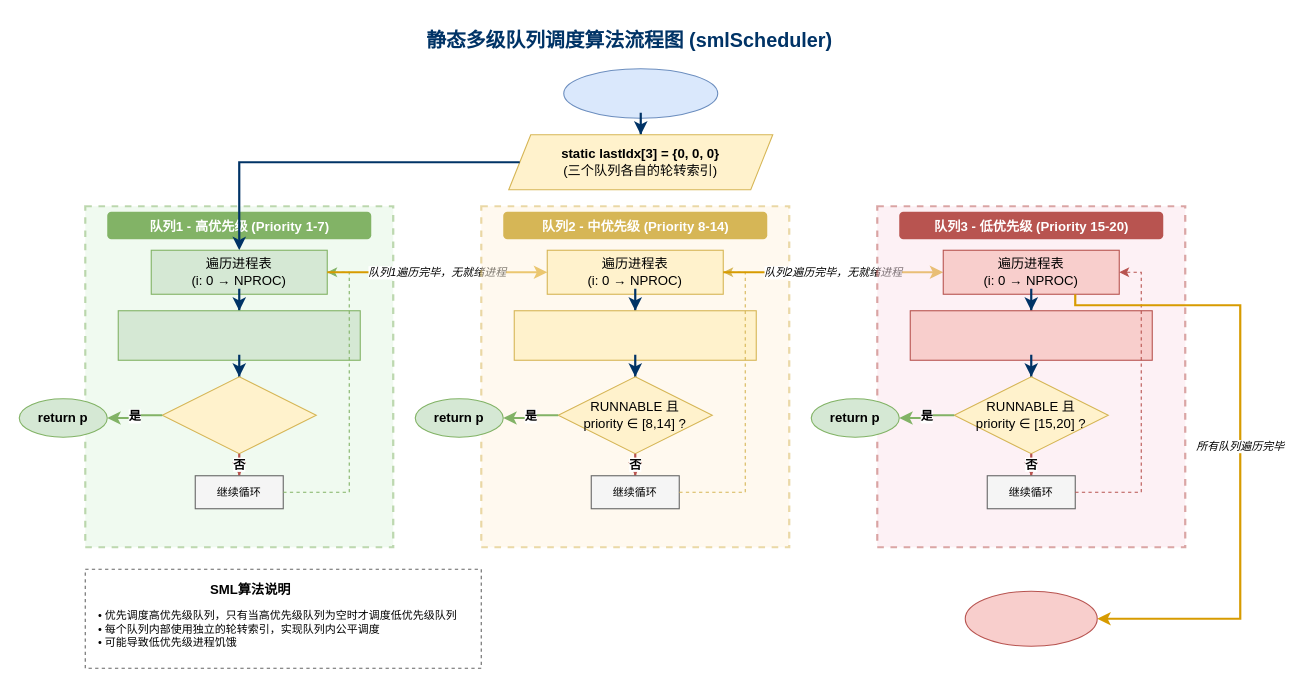
Some shapes in this 1304 by 688 pixel diagram are drawn without their labels. Here are the shapes that lost their labels. From the top down, the centre of each, then its label:
the point at 640,93: smlScheduler()
the point at 238,335: lastIdx[0] = (lastIdx[0]+1) % NPROC p = &ptable.proc[lastIdx[0]]
the point at 634,335: lastIdx[1] = (lastIdx[1]+1) % NPROC p = &ptable.proc[lastIdx[1]]
the point at 1030,335: lastIdx[2] = (lastIdx[2]+1) % NPROC p = &ptable.proc[lastIdx[2]]
the point at 238,415: RUNNABLE 且 priority ∈ [1,7] ?
the point at 1030,618: return 0 (无就绪进程)
